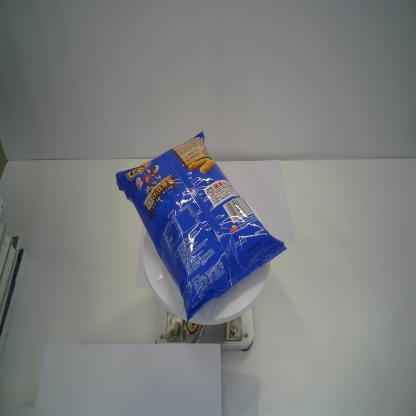Puffed Food: (115, 130, 288, 322)
